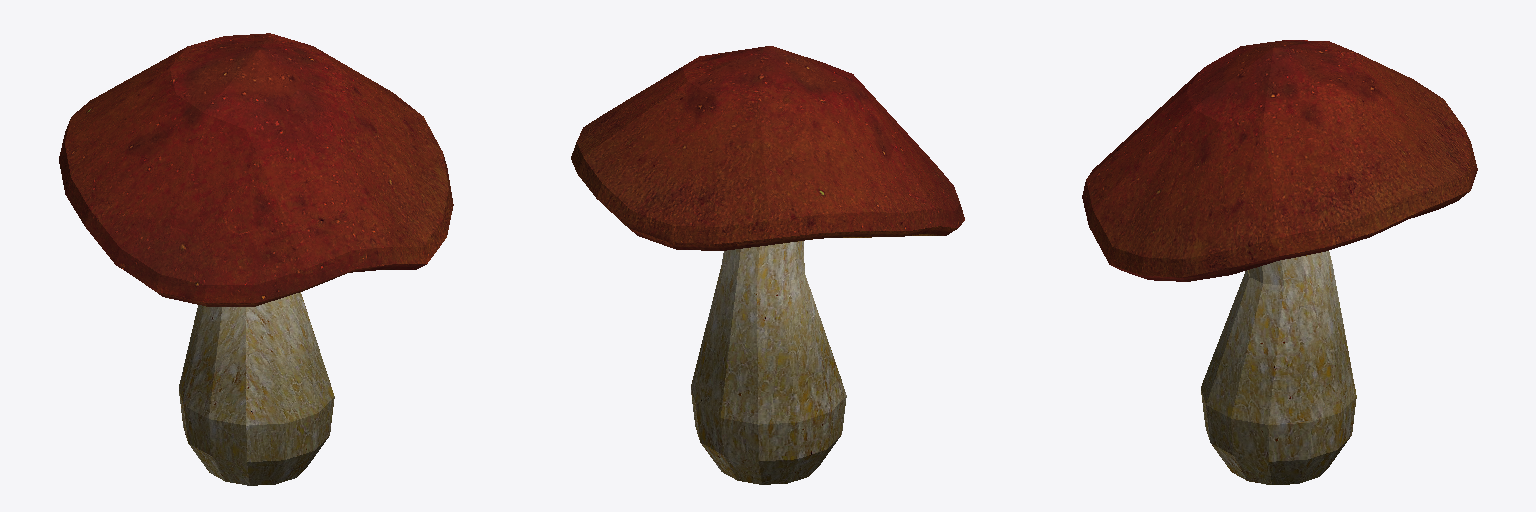
3 views of the same model, side by side, from view 1: azimuth 30°, elevation 25°; view 2: azimuth 150°, elevation 25°; view 3: azimuth 270°, elevation 25° (orthographic).
Visible parts, largest first — view 1: meshtubeA; view 2: meshtubeA; view 3: meshtubeA.
Part boxes in pixels (x1,y1,x2,y2): meshtubeA: (59,33,453,485); meshtubeA: (571,46,964,484); meshtubeA: (1082,40,1477,484).
Bounding box in the file's own units: 3.73 × 4.33 × 3.74.
Materials: 1 (1 with a texture image).